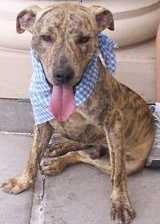dog: (14, 6, 152, 198)
